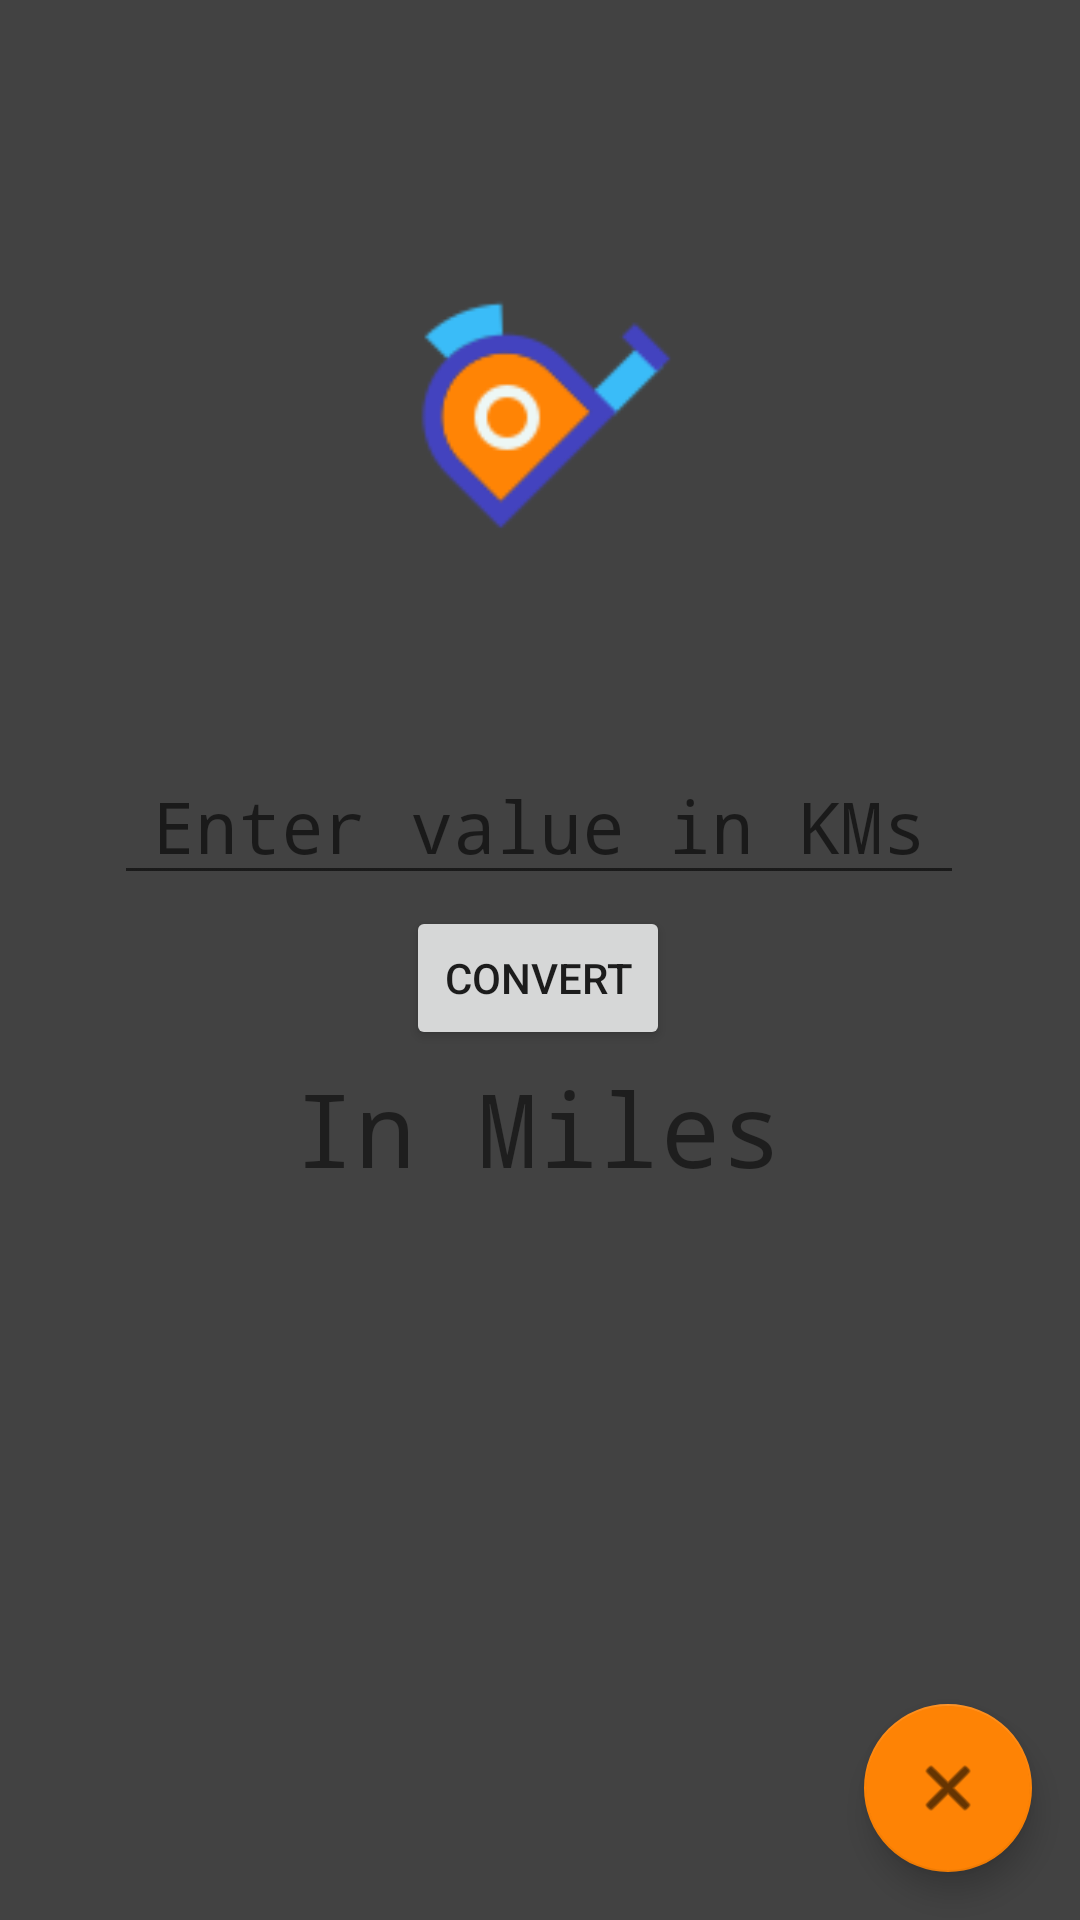

Screen size 1080w x 1920h. Icon name, then its box in pixels as (x1, y1, x2, y2):
close clear cancel: (864, 1704, 1032, 1872)
